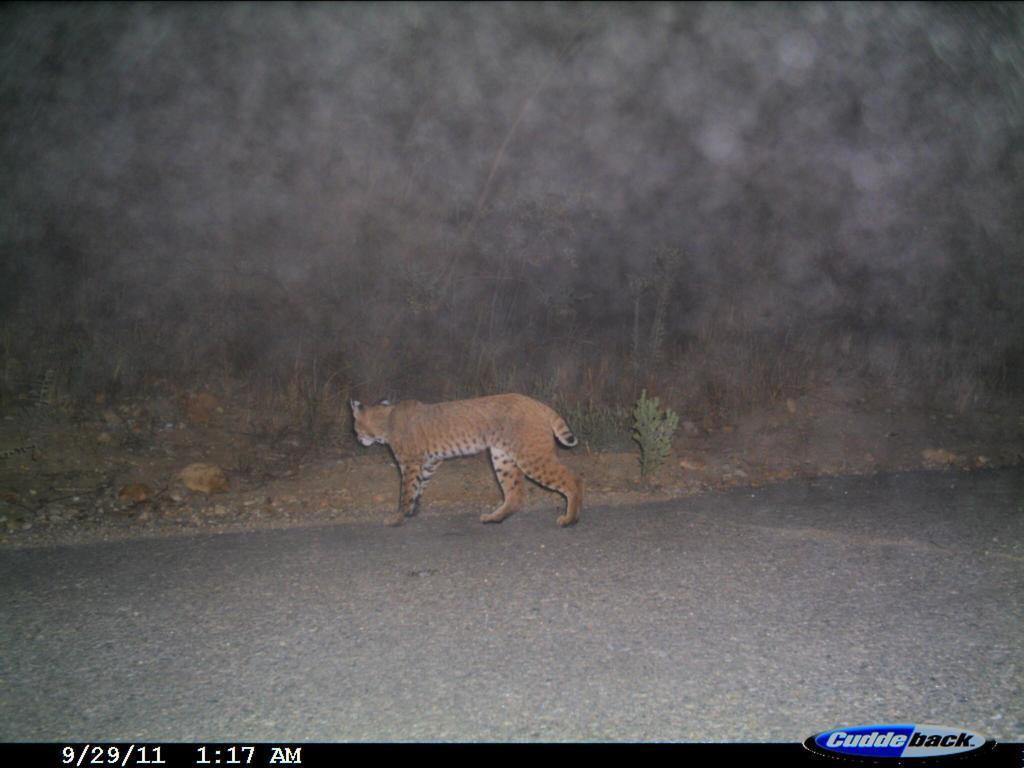bobcat: (341, 376, 598, 543)
